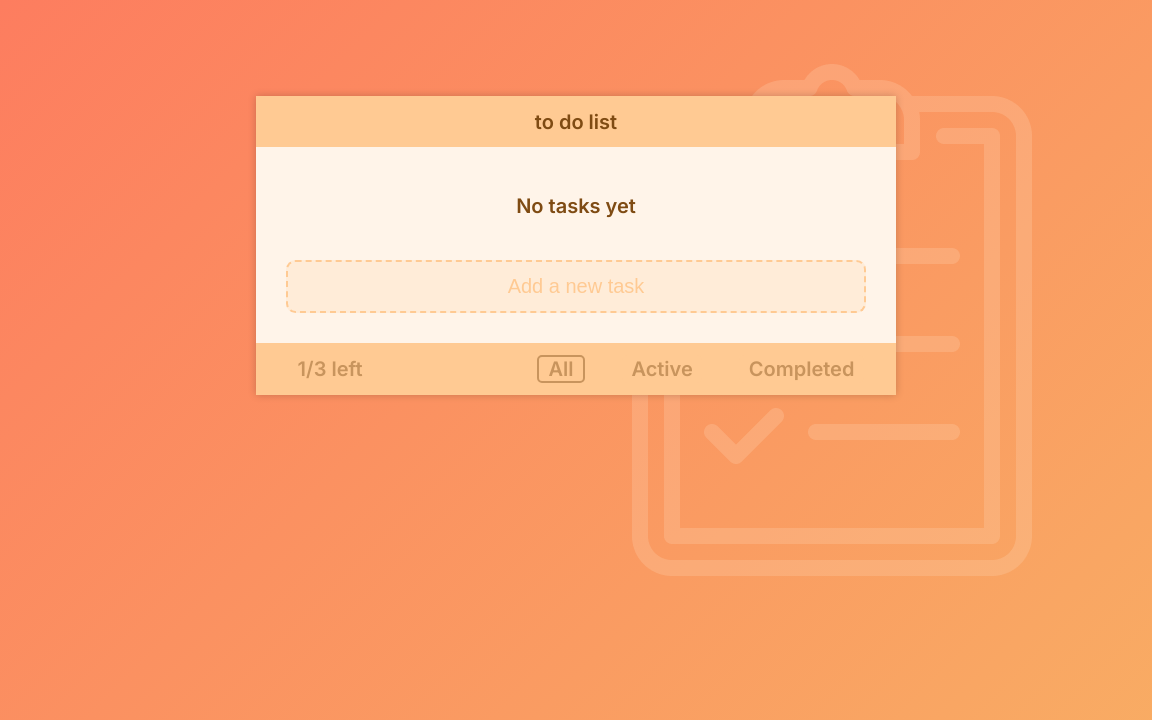
ToDo App › adds a new task and displays it in the list
What coordinates should you click on to do the following:
click the button "Add a new task"
I would click on:
 (576, 287)
Its box is [300,274,851,299].
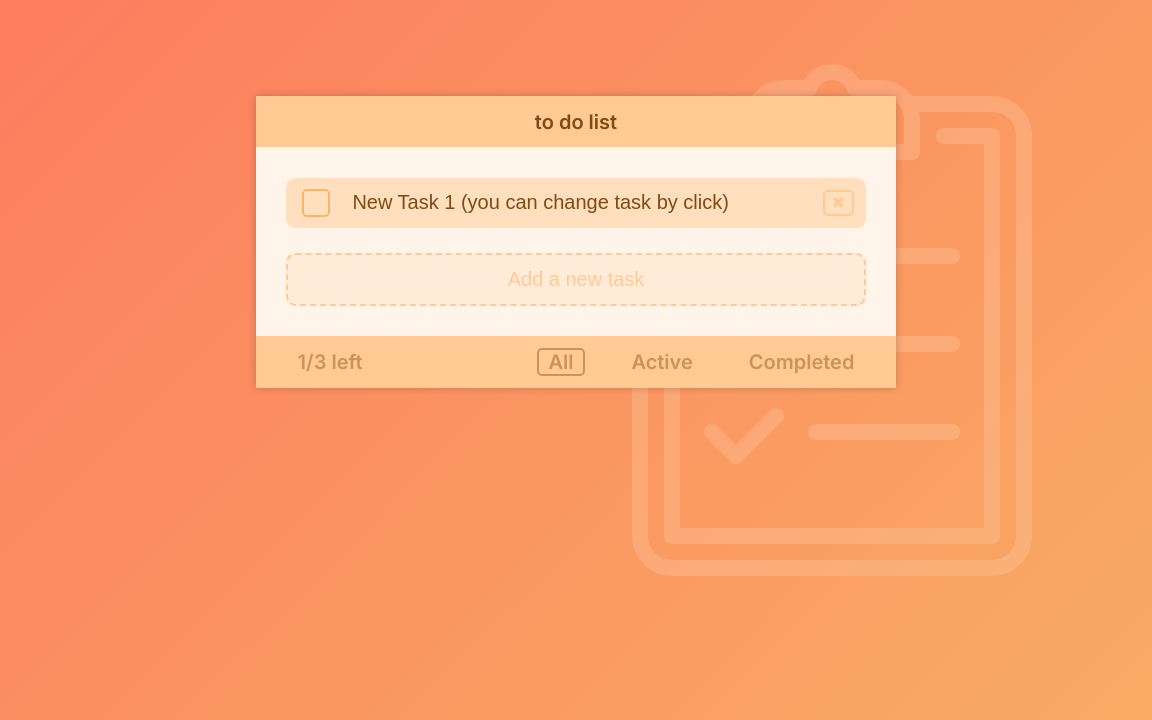
Result: the field holds "New Task 1 (you can change task by click)" at [350,190,823,215]
